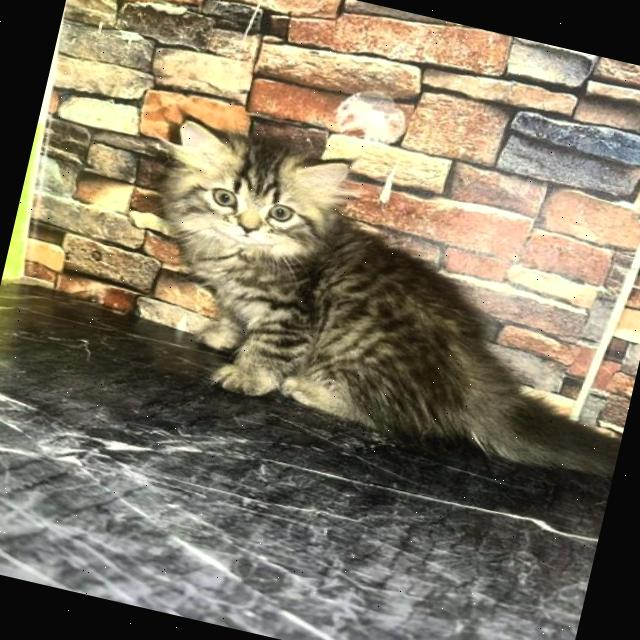persian_cat: (137, 104, 381, 282)
